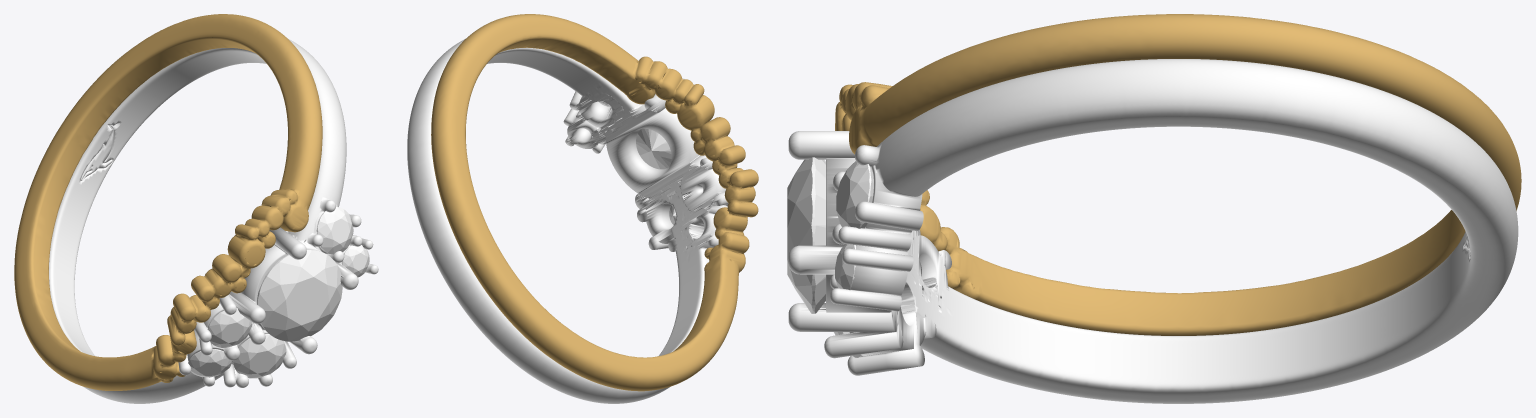
The model's file is ring_webgi.gltf.
The picture shows the model from 3 angles, left to right: view 1: azimuth 30°, elevation 25°; view 2: azimuth 150°, elevation 25°; view 3: azimuth 270°, elevation 25°; orthographic projection. The views are drawn at different scales.
Visible parts, largest first — view 1: gold, silver, diamonds004, diamonds003, diamonds, diamonds001, diamonds002, diamonds005; view 2: gold, silver, diamonds004; view 3: silver, gold, diamonds004, diamonds.
Part boxes in pixels (bbox=[...]): gold: bbox=[14, 14, 322, 390]; silver: bbox=[49, 39, 378, 403]; diamonds004: bbox=[257, 249, 342, 341]; diamonds003: bbox=[233, 334, 286, 378]; diamonds: bbox=[316, 207, 353, 254]; diamonds001: bbox=[207, 308, 252, 347]; diamonds002: bbox=[188, 349, 231, 377]; diamonds005: bbox=[342, 245, 369, 277]; gold: bbox=[431, 14, 758, 391]; silver: bbox=[407, 39, 728, 403]; diamonds004: bbox=[636, 128, 671, 169]; silver: bbox=[788, 59, 1518, 403]; gold: bbox=[835, 14, 1521, 335]; diamonds004: bbox=[787, 157, 825, 313]; diamonds: bbox=[836, 161, 873, 228].
Size of the model in its own units: 1.89 by 2.24 by 2.81.
